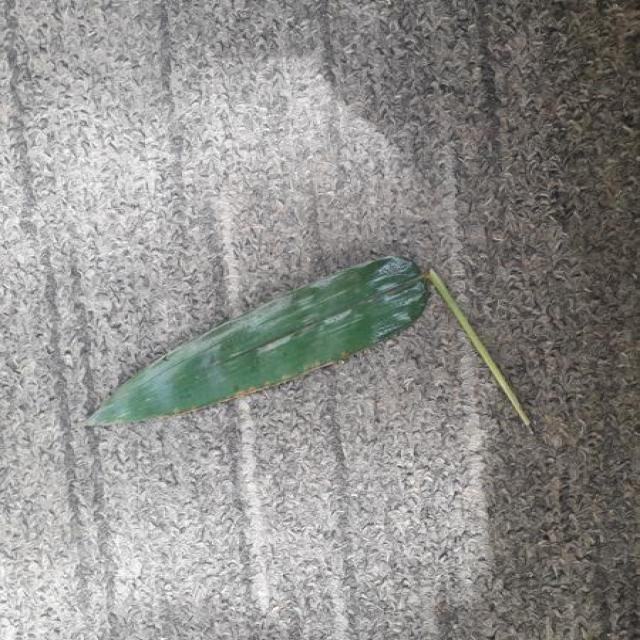defectedBamboo: (92, 256, 428, 424)
